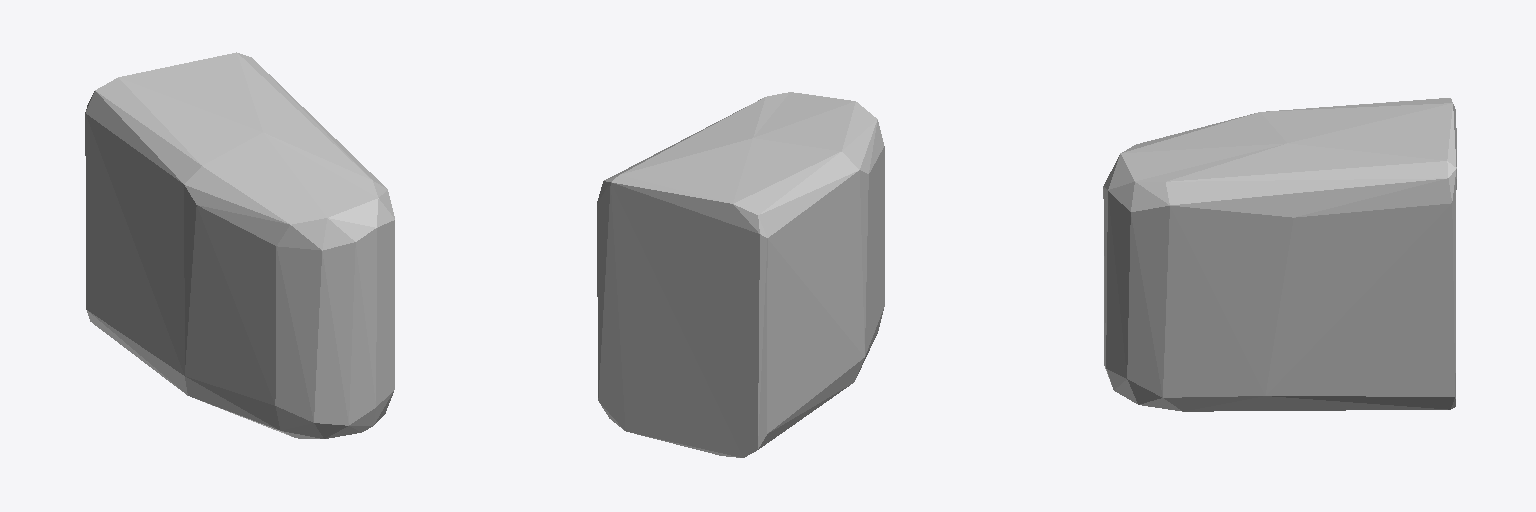
The model's file is arm_roll_collision.obj.
3 views of the same model, side by side, from view 1: azimuth 30°, elevation 25°; view 2: azimuth 150°, elevation 25°; view 3: azimuth 270°, elevation 25° (orthographic).
Size of the model in its own units: 0.0757 by 0.1087 by 0.136.